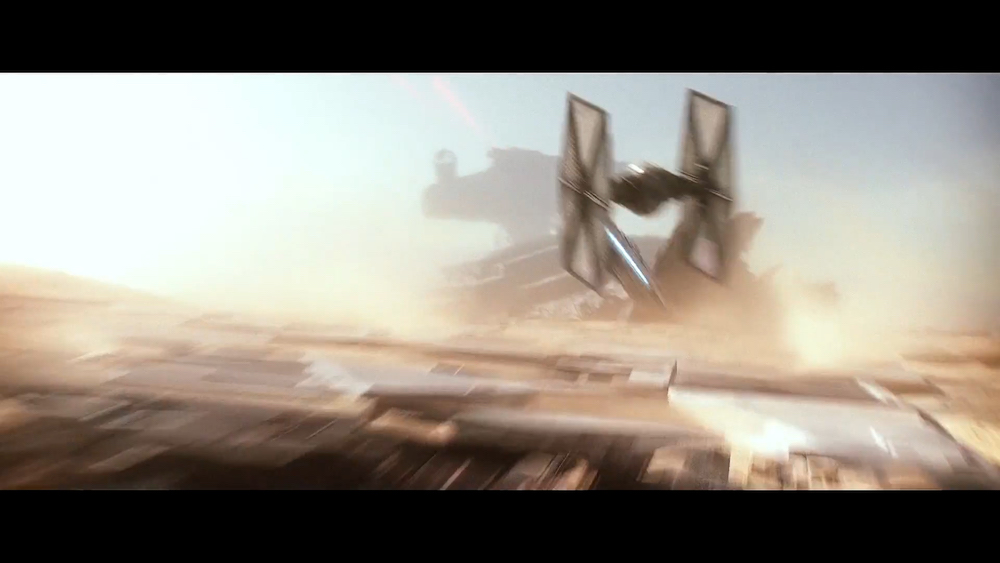Millennium Falcon: (577, 188, 676, 325)
Tie Fighter: (555, 86, 742, 305)
